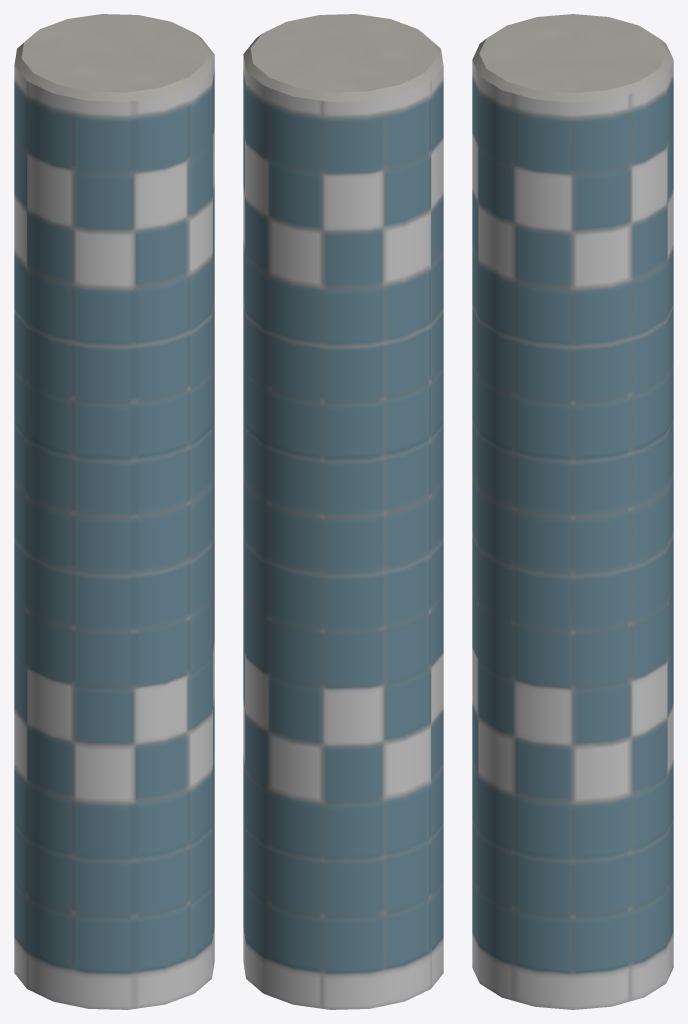
File: column8_1.fbx
3 views of the same model, side by side, from view 1: azimuth 30°, elevation 25°; view 2: azimuth 150°, elevation 25°; view 3: azimuth 270°, elevation 25° (orthographic).
Parts seen in each view (by area): view 1: column8_a; view 2: column8_a; view 3: column8_a.
Part boxes in pixels (left/top/right/bottom): column8_a: left=14, top=14, right=214, bottom=1009; column8_a: left=243, top=14, right=443, bottom=1009; column8_a: left=472, top=14, right=673, bottom=1009.
Size of the model in its own units: 80 by 400 by 80.
